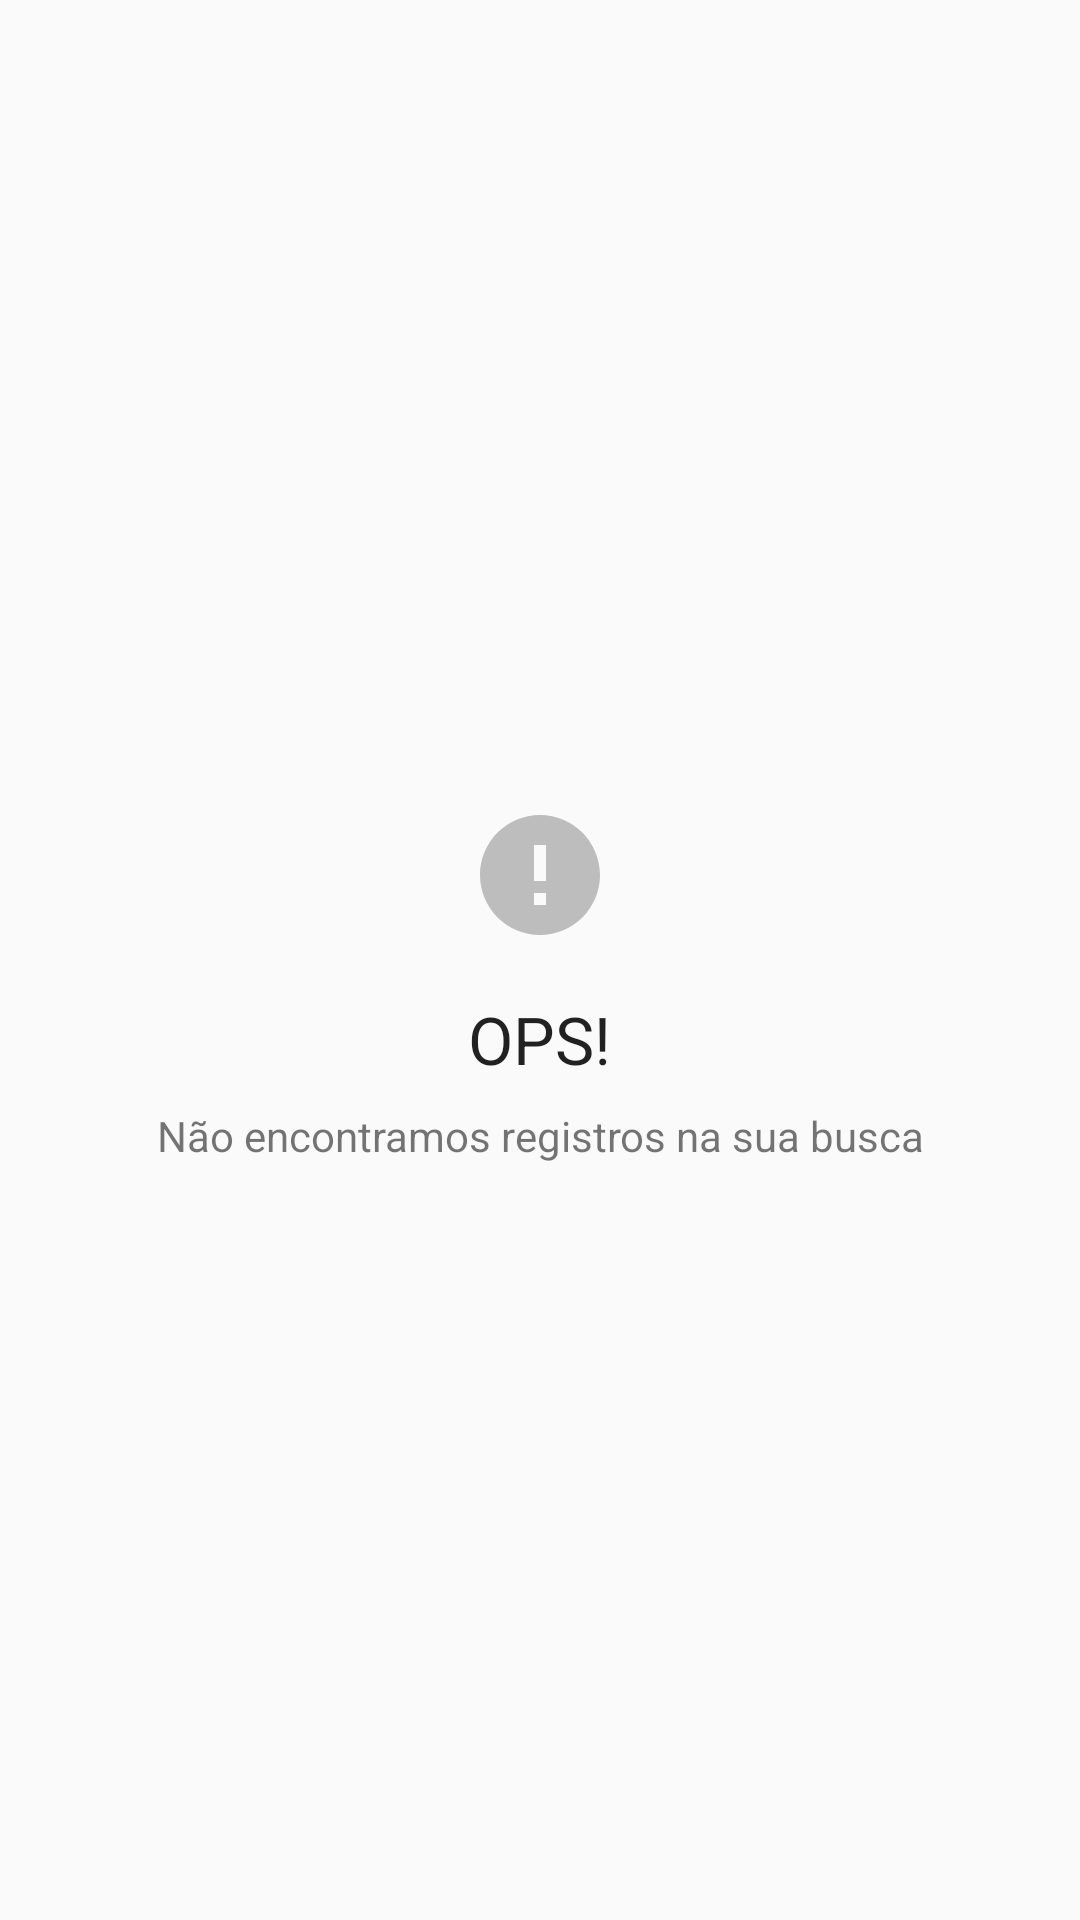

Locate icon controls on the screen. Image size 1080 × 1920, boxes as (x1, y1, x2, y2).
no data: (480, 815, 600, 935)
